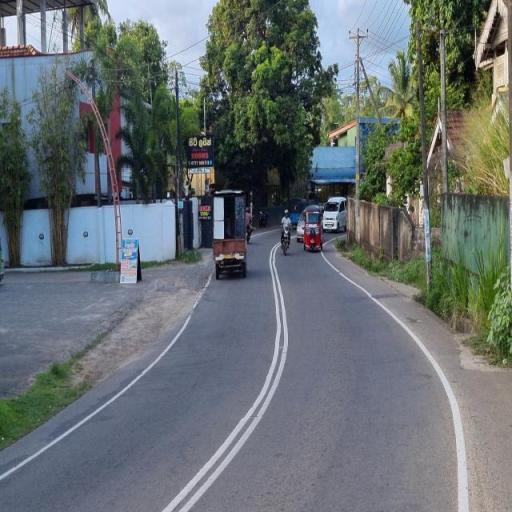double_white_line: (162, 240, 292, 512)
